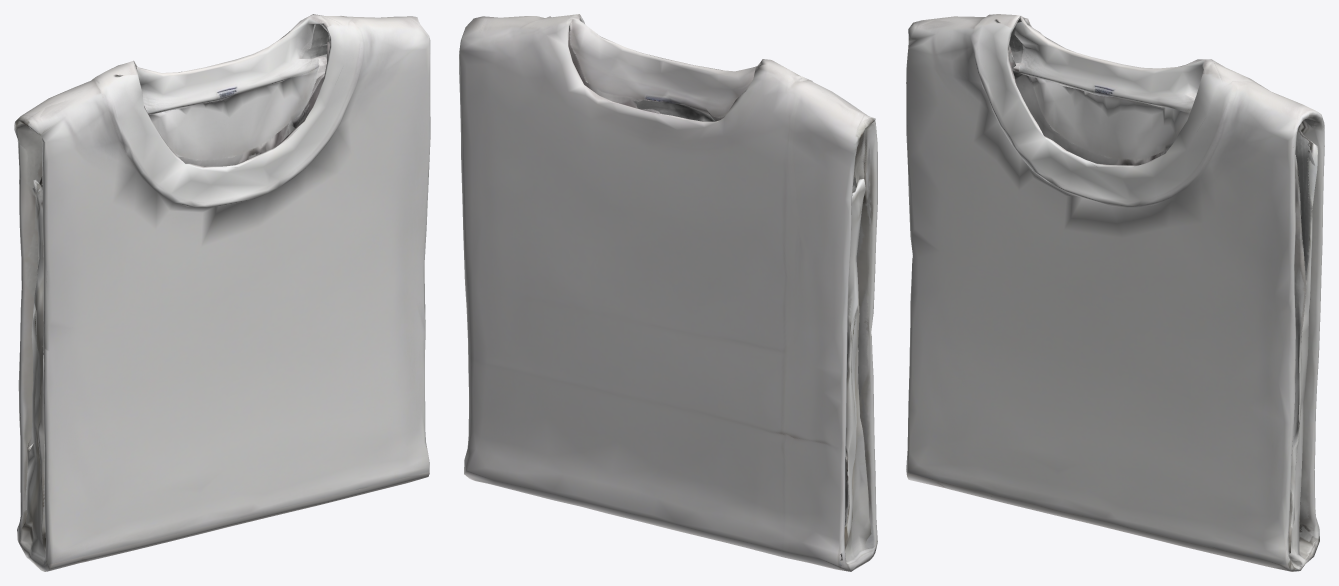
Rendered from T-ShirtFolded.fbx.
3 renders of one model, left to right at view 1: azimuth 30°, elevation 25°; view 2: azimuth 150°, elevation 25°; view 3: azimuth 330°, elevation 25°, orthographic.
Parts seen in each view (by area): view 1: temp.001; view 2: temp.001; view 3: temp.001.
Part boxes in pixels (bbox=[...]): temp.001: bbox=[14, 14, 430, 571]; temp.001: bbox=[459, 14, 877, 571]; temp.001: bbox=[906, 14, 1324, 571].
Size of the model in its own units: 173 by 200 by 26.87.
1 material, 1 textured.
